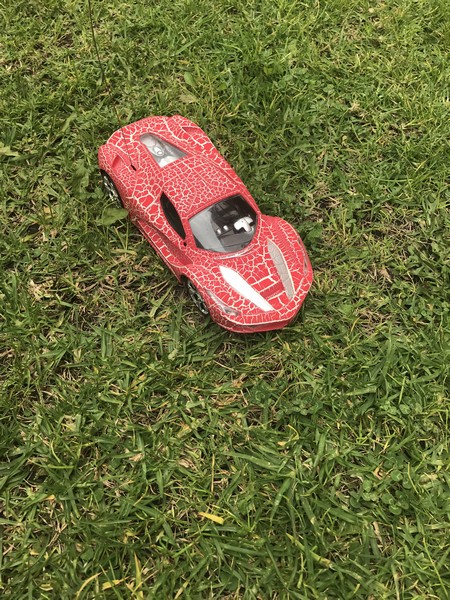RC: (95, 112, 314, 335)
